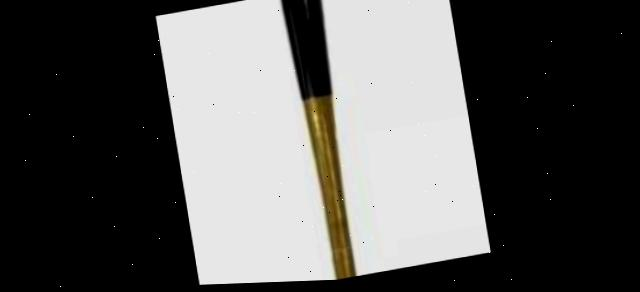baseball bat: (276, 0, 364, 284), (278, 0, 364, 284)
